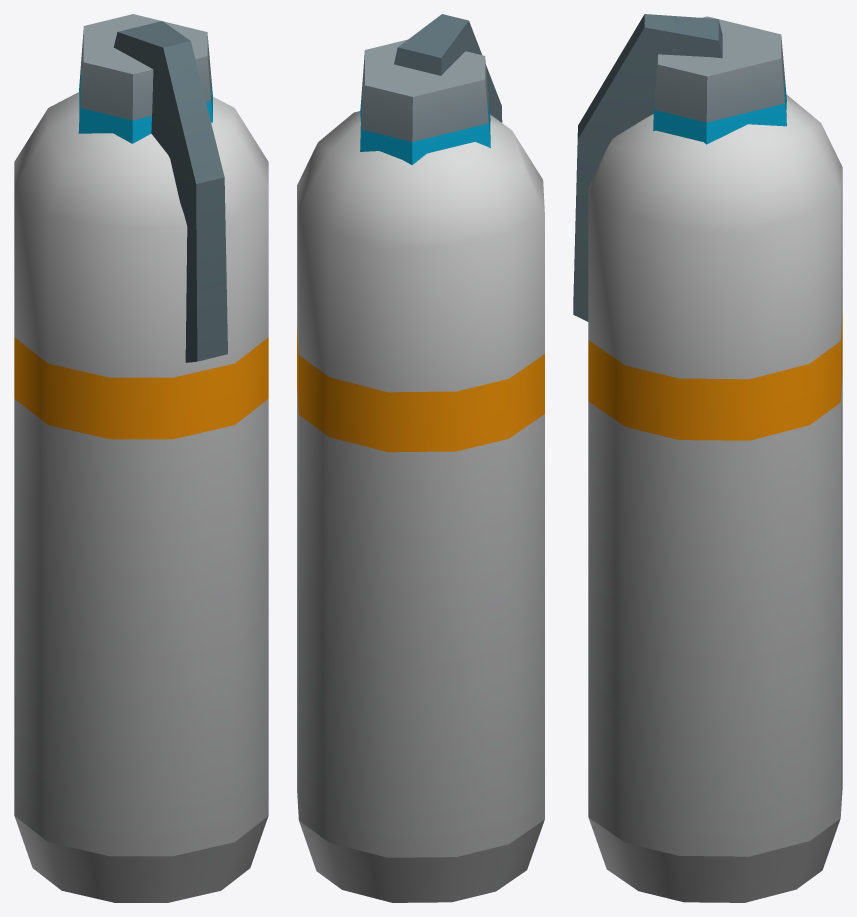
Rendered from Baloon_001.fbx.
3 views of the same model, side by side, from view 1: azimuth 30°, elevation 25°; view 2: azimuth 150°, elevation 25°; view 3: azimuth 270°, elevation 25° (orthographic). The views are drawn at different scales.
Parts seen in each view (by area): view 1: Baloon_001; view 2: Baloon_001; view 3: Baloon_001.
Part boxes in pixels (left/top/right/bottom): Baloon_001: left=14, top=14, right=268, bottom=902; Baloon_001: left=297, top=14, right=544, bottom=902; Baloon_001: left=573, top=14, right=842, bottom=902.
Size of the model in its own units: 30.59 by 32.4 by 111.
